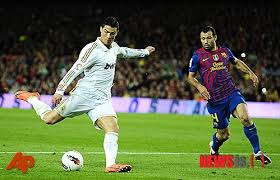barcelona: (183, 26, 273, 167)
realmadrid: (18, 16, 157, 180)
